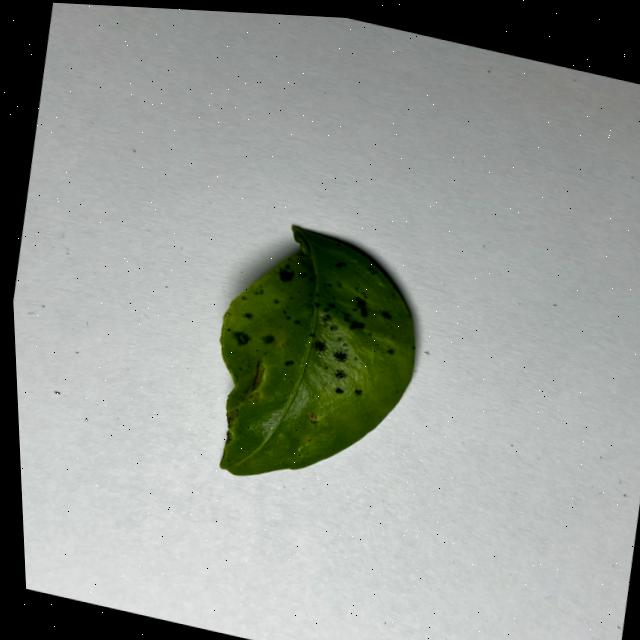sooty_mold: (219, 226, 413, 475)
